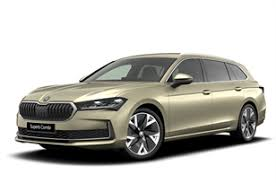car: (14, 52, 267, 163)
